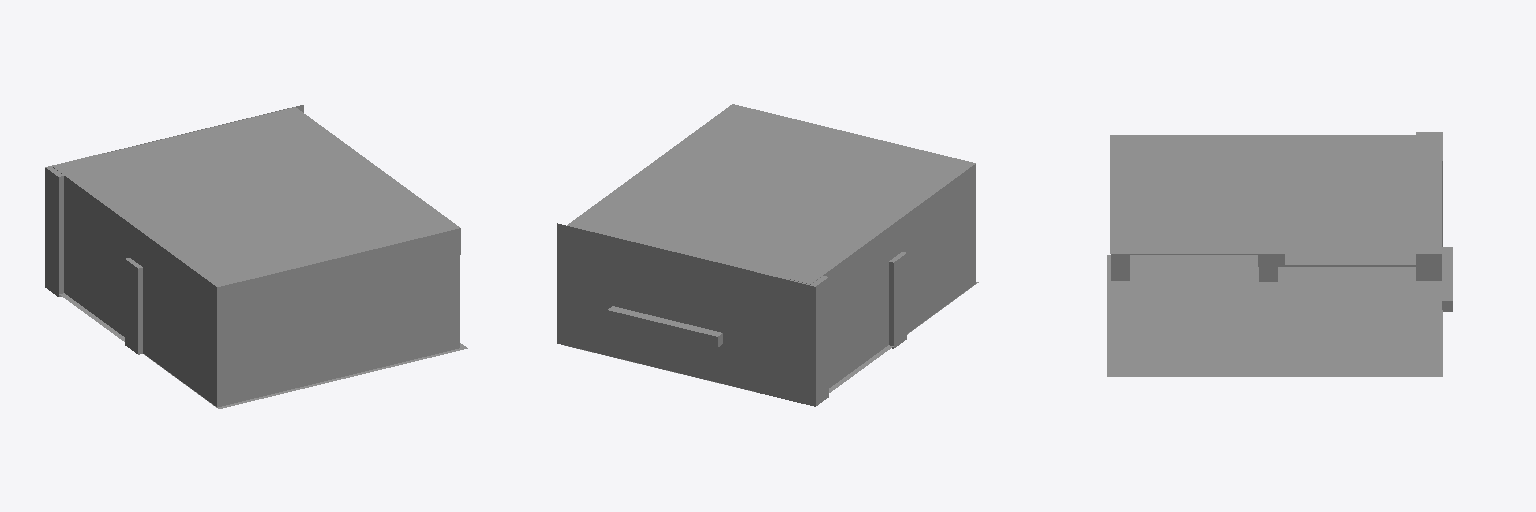
The model's file is interior.obj.
3 renders of one model, left to right at view 1: azimuth 30°, elevation 25°; view 2: azimuth 150°, elevation 25°; view 3: azimuth 270°, elevation 25°, orthographic.
Parts seen in each view (by area): view 1: Cube; view 2: Cube; view 3: Cube.
Boxes of the visible parts, <box> form: Cube: <box>45,105,467,408</box>; Cube: <box>557,104,978,406</box>; Cube: <box>1107,132,1452,376</box>.
Bounding box in the file's own units: 22.26 × 10.01 × 25.88.